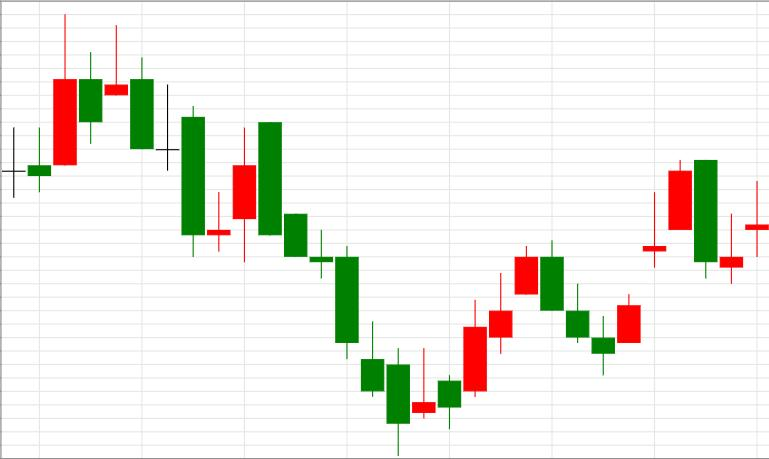bearish_engulfing_fall: (413, 240, 563, 430), (592, 160, 717, 375)
inverse_hammer_rise: (259, 122, 384, 396)
morning_star_rise: (104, 25, 256, 263)
